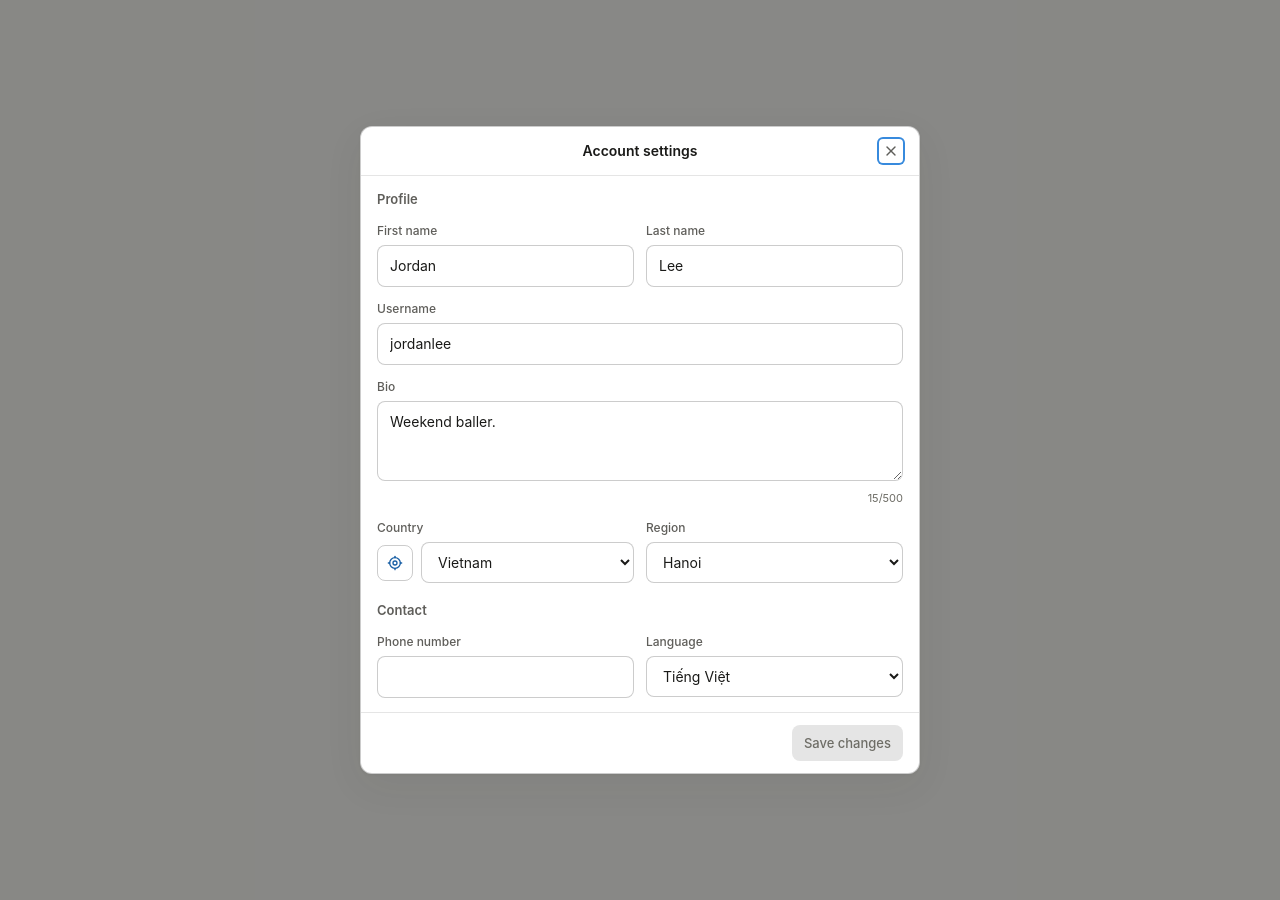
Test: AccountSettingsModal › CLIENT-REF-3: Country / Region / Language › Save is enabled by a language-only change
This screenshot has width=1280, height=900.
expect the button "Save changes" is disabled: met, box left=792, top=725, right=903, bottom=761
Select "English" in the dropdown labelled "Language" at (774, 677), box left=646, top=656, right=903, bottom=697
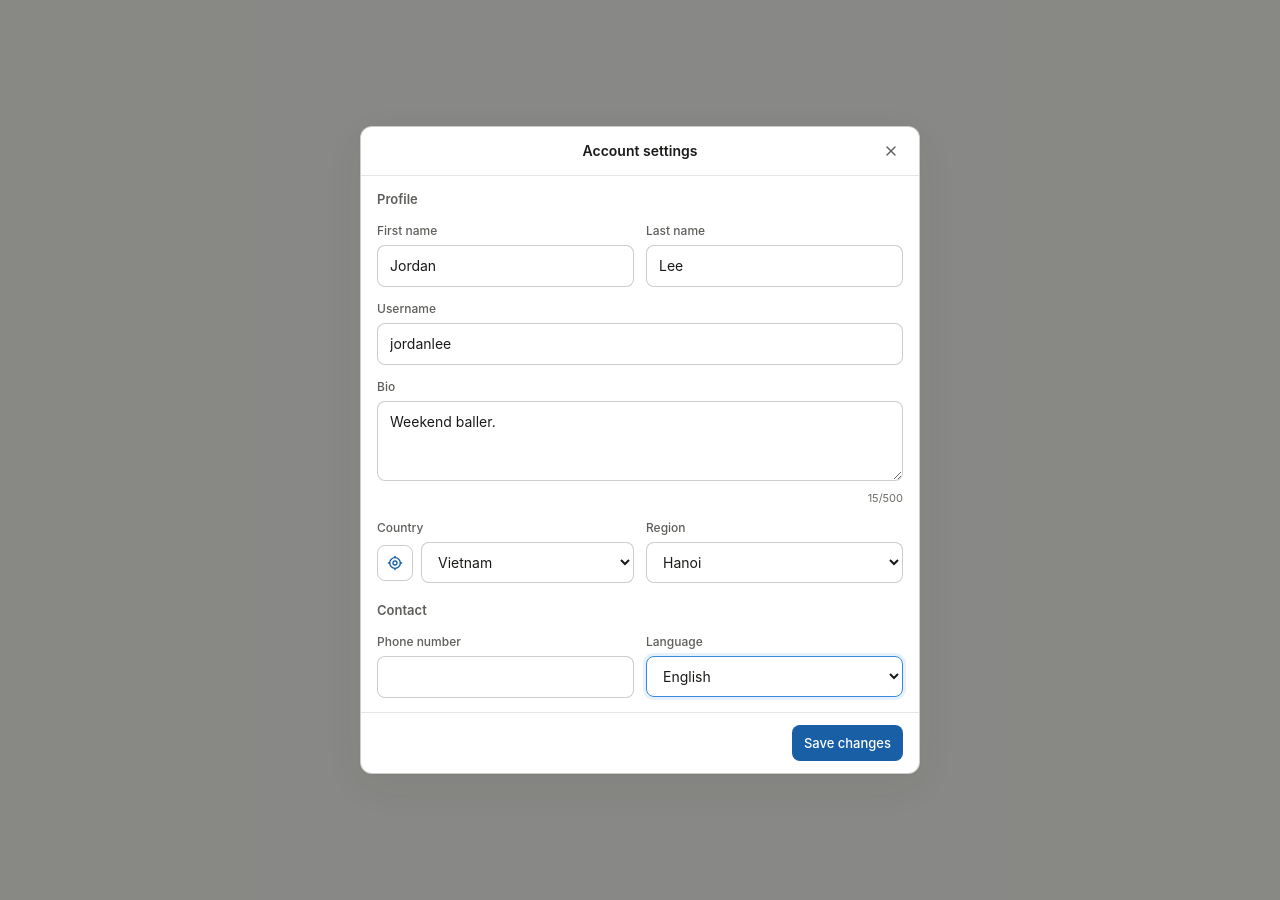
expect the button "Save changes" is enabled: met, box left=792, top=725, right=903, bottom=761
